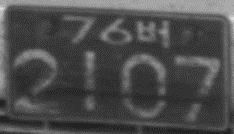0: (119, 52, 168, 119)
1: (72, 49, 110, 113)
2: (11, 47, 65, 115)
6: (99, 16, 134, 46)
7: (172, 53, 220, 123), (60, 13, 97, 44)
버: (134, 19, 171, 49)
